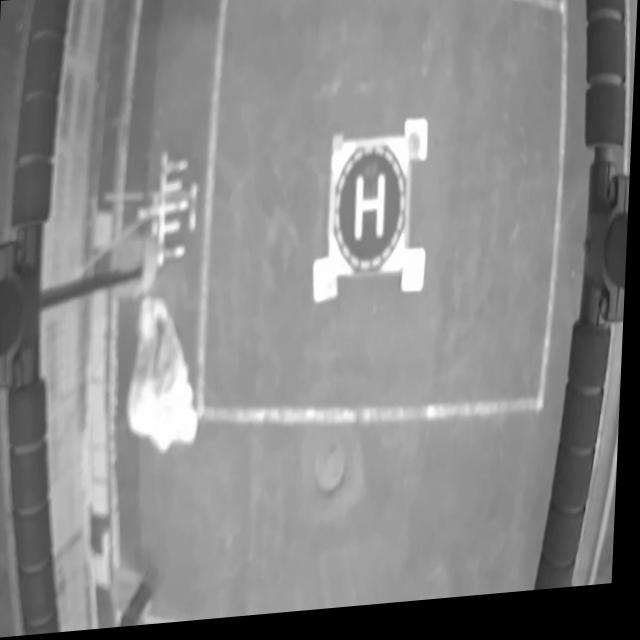Helipad: (357, 179, 387, 248)
